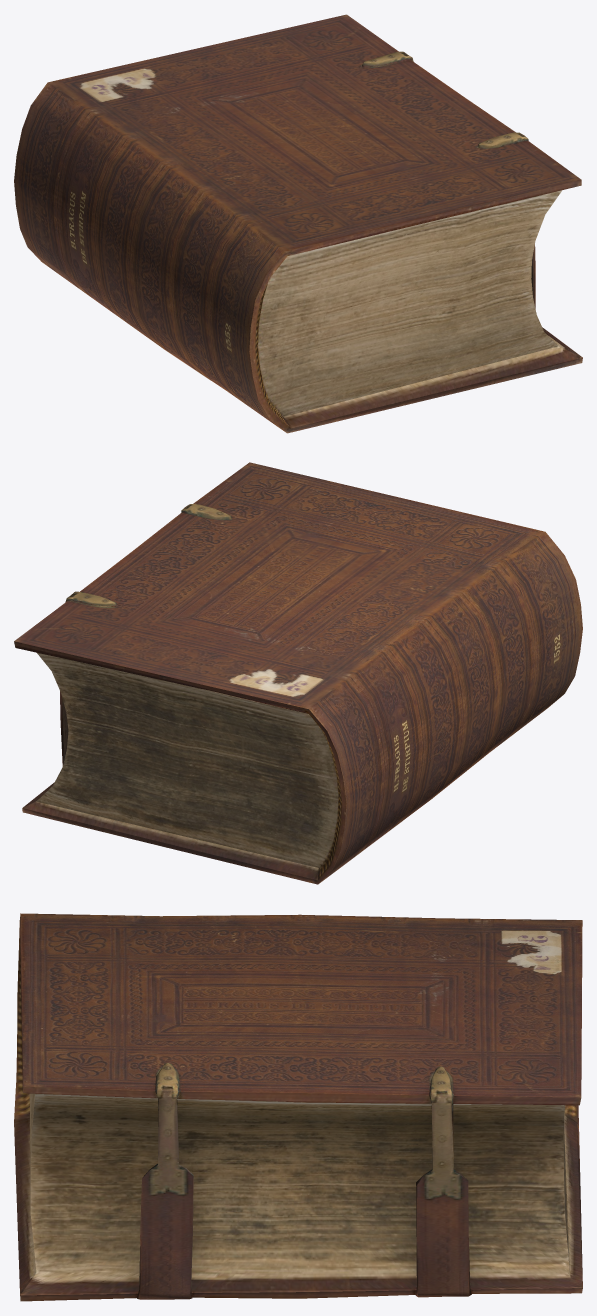
Rendered from old_book_game_ready__2k_pbr.glb.
The picture shows the model from 3 angles, top to bottom: view 1: azimuth 30°, elevation 25°; view 2: azimuth 150°, elevation 25°; view 3: azimuth 270°, elevation 25°; orthographic projection. The views are drawn at different scales.
Visible parts, largest first — view 1: Book; view 2: Book; view 3: Book.
Part boxes in pixels (x1=…): Book: x1=14, y1=14, x2=582, y2=433; Book: x1=14, y1=462, x2=582, y2=884; Book: x1=14, y1=913, x2=582, y2=1301.
Bounding box in the file's own units: 0.2065 × 0.1063 × 0.2528.
Materials: 1 (1 with a texture image).
